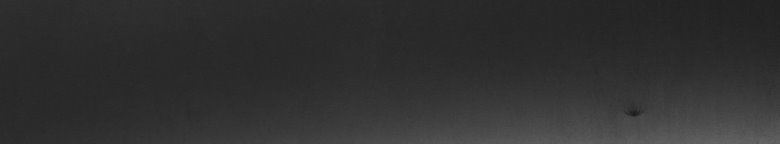fi: (624, 104, 644, 124)
